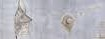Spalling: (13, 1, 33, 39), (61, 12, 75, 33)
